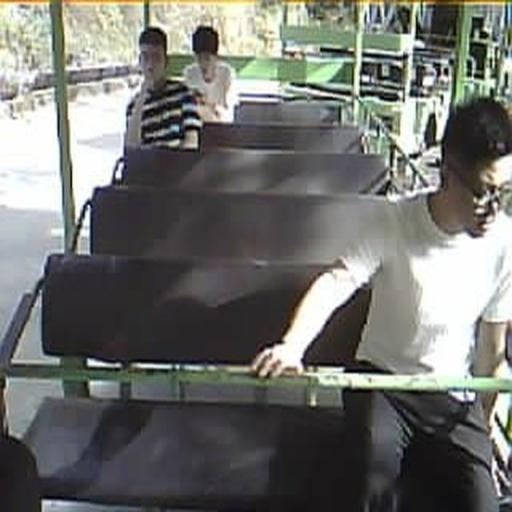persona: (249, 96, 511, 510), (122, 26, 204, 159), (181, 24, 236, 122)
